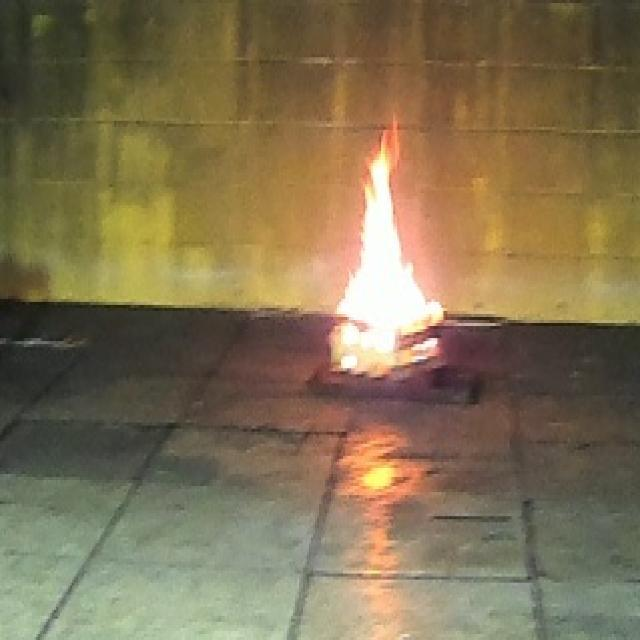Fire: (336, 114, 444, 378)
